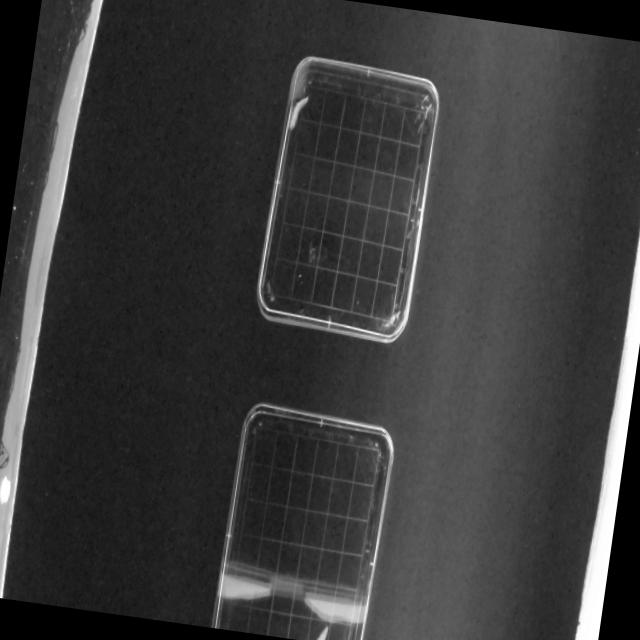larva: (286, 90, 312, 135), (299, 621, 330, 640)
